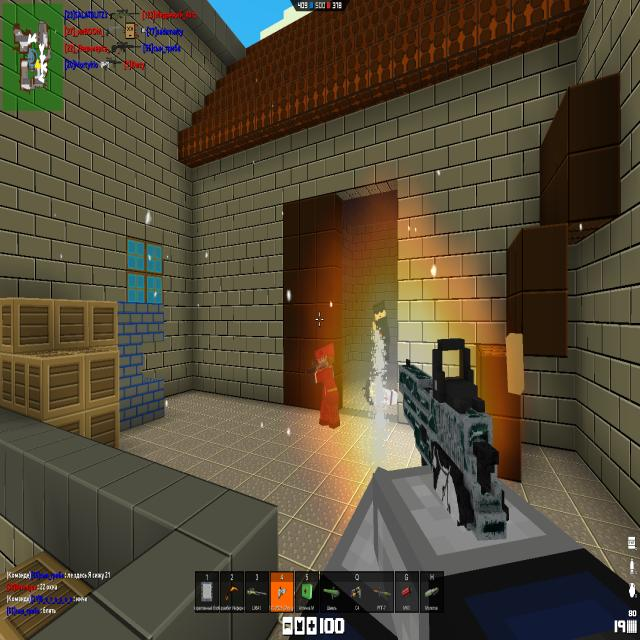player: (309, 343, 341, 428), (373, 300, 391, 362)
